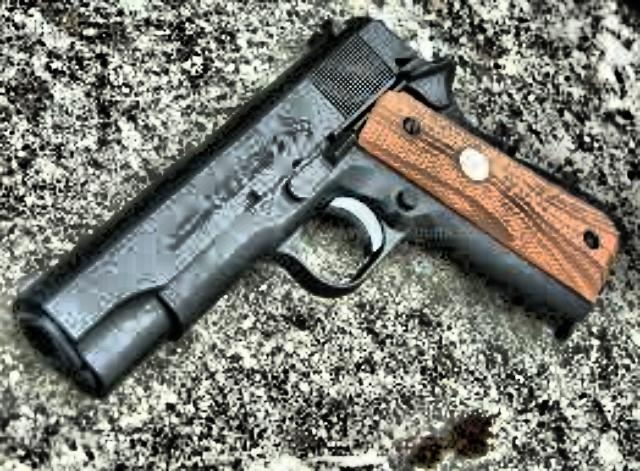pistol: (25, 15, 625, 400)
